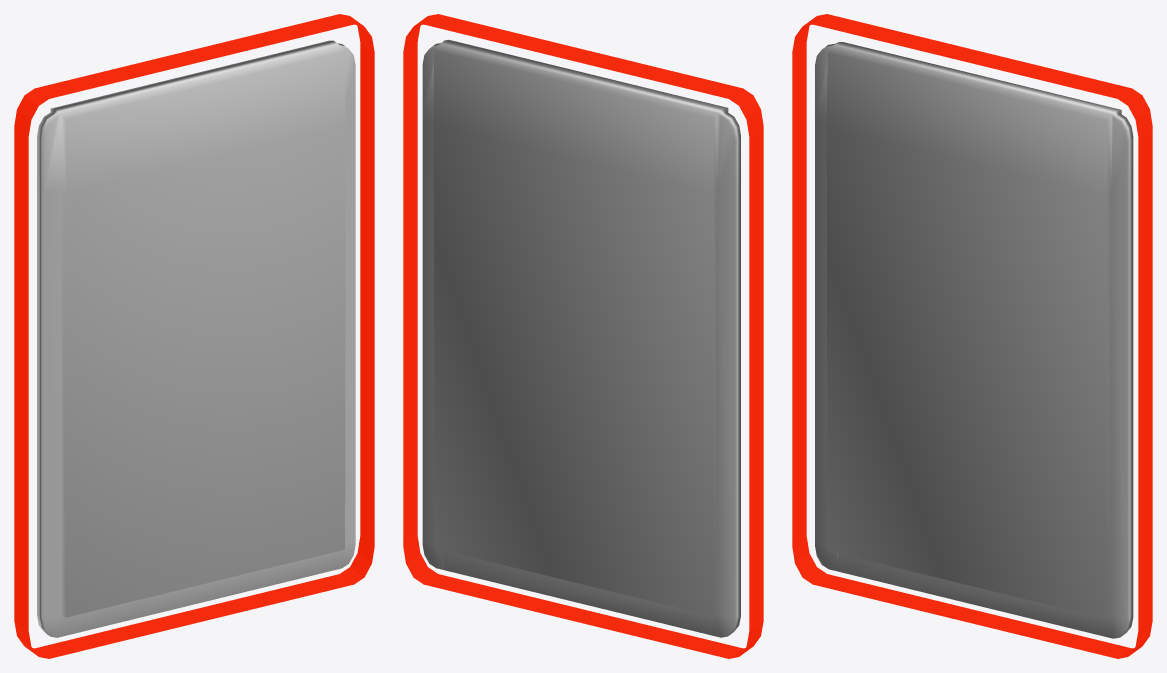
The model's file is spidermancomic.glb.
3 views of the same model, side by side, from view 1: azimuth 30°, elevation 25°; view 2: azimuth 150°, elevation 25°; view 3: azimuth 330°, elevation 25° (orthographic).
Visible parts, largest first — view 1: Cube, Cube.001; view 2: Cube, Cube.001; view 3: Cube, Cube.001.
Boxes of the visible parts, <box> form: Cube: <box>37,40,355,637</box>; Cube.001: <box>14,14,374,658</box>; Cube: <box>422,40,740,637</box>; Cube.001: <box>403,14,763,658</box>; Cube: <box>815,42,1133,638</box>; Cube.001: <box>792,14,1152,658</box>.
Bounding box in the file's own units: 1.4 × 2.17 × 0.116.
